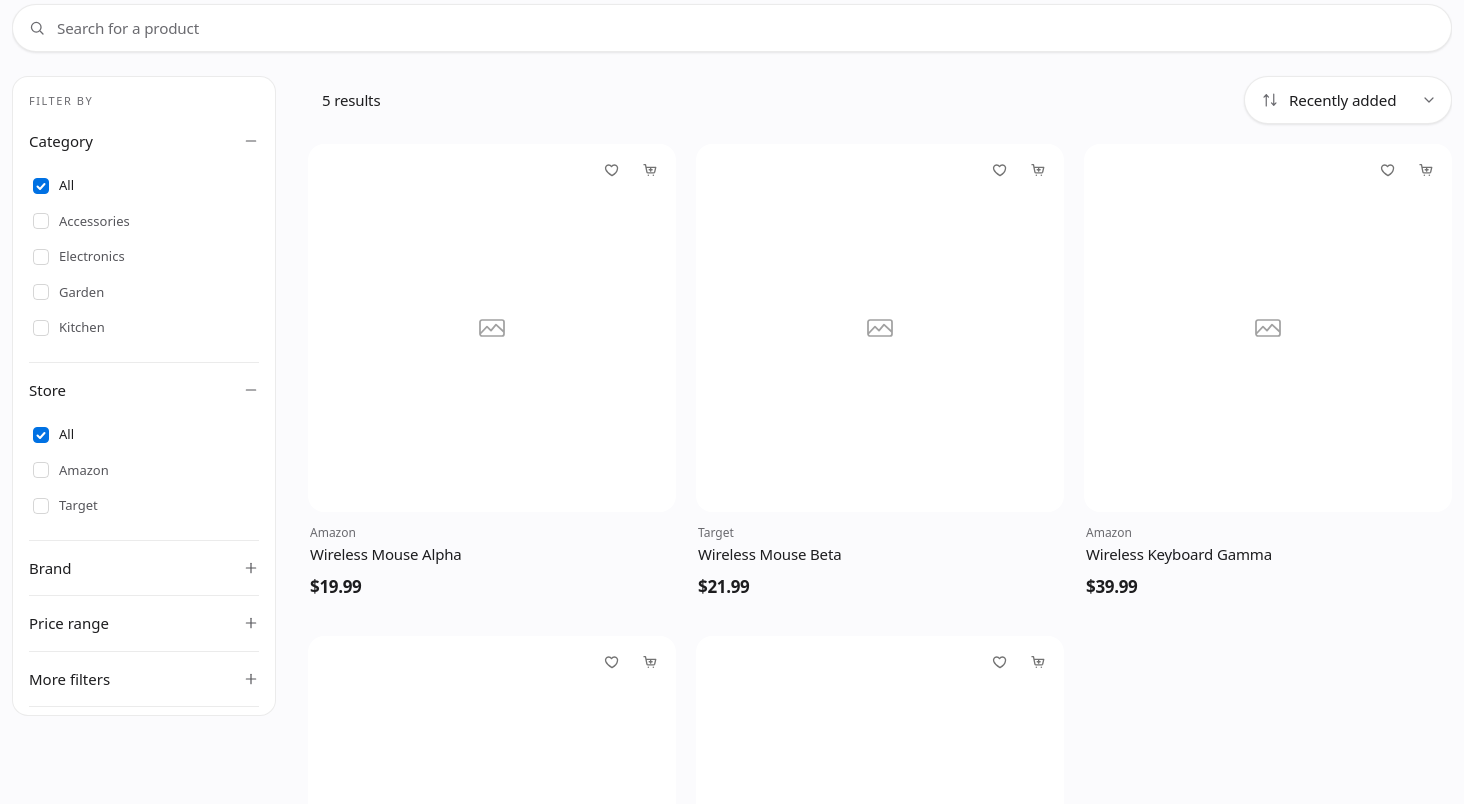
ProductSearchApp › store filter combines with the active query (AND)
Type "Wireless" into the search field labelled "Search for a product".
click(732, 28); type("Wireless")  # box [12,4,1452,52]
Wait 300 ms
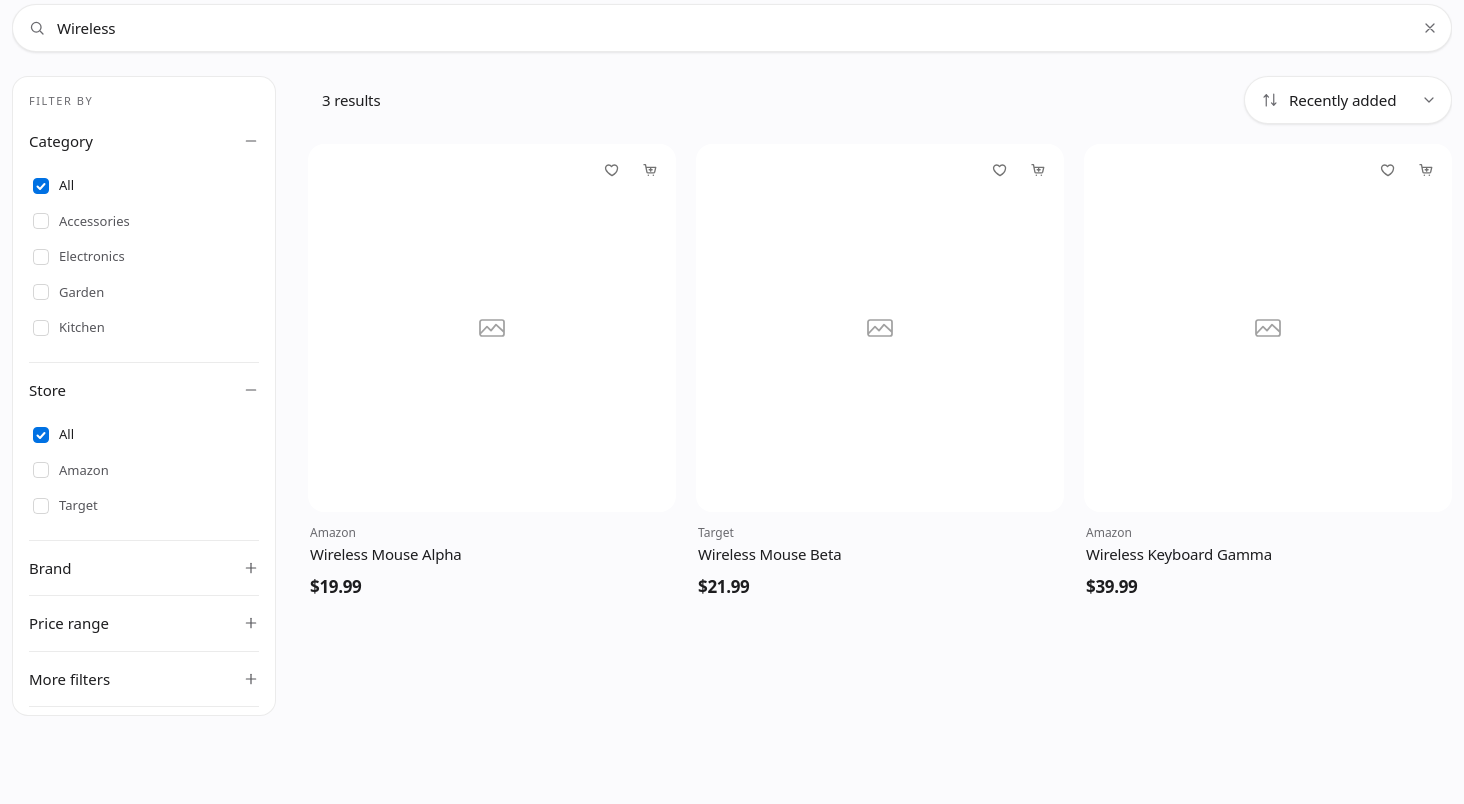
Expected: the heading "Wireless Mouse Beta" is shown, [698,544,842,564]
Click the checkbox labelled "Amazon".
click(71, 470)  # box [33,460,109,478]
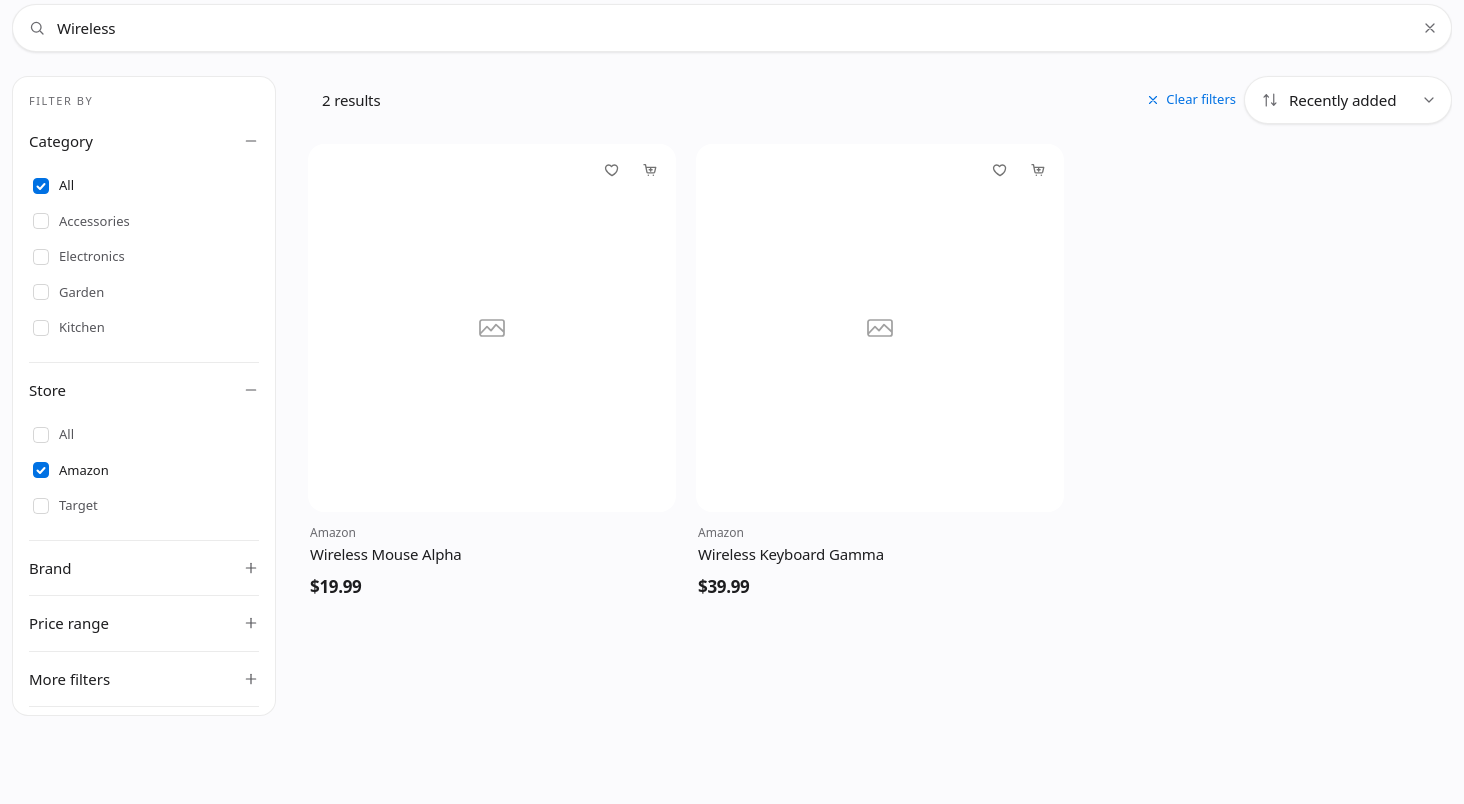
Expected: the heading "Wireless Mouse Alpha" is shown, [310,544,462,564]
Expected: the link "Wireless Mouse Beta" is gone
